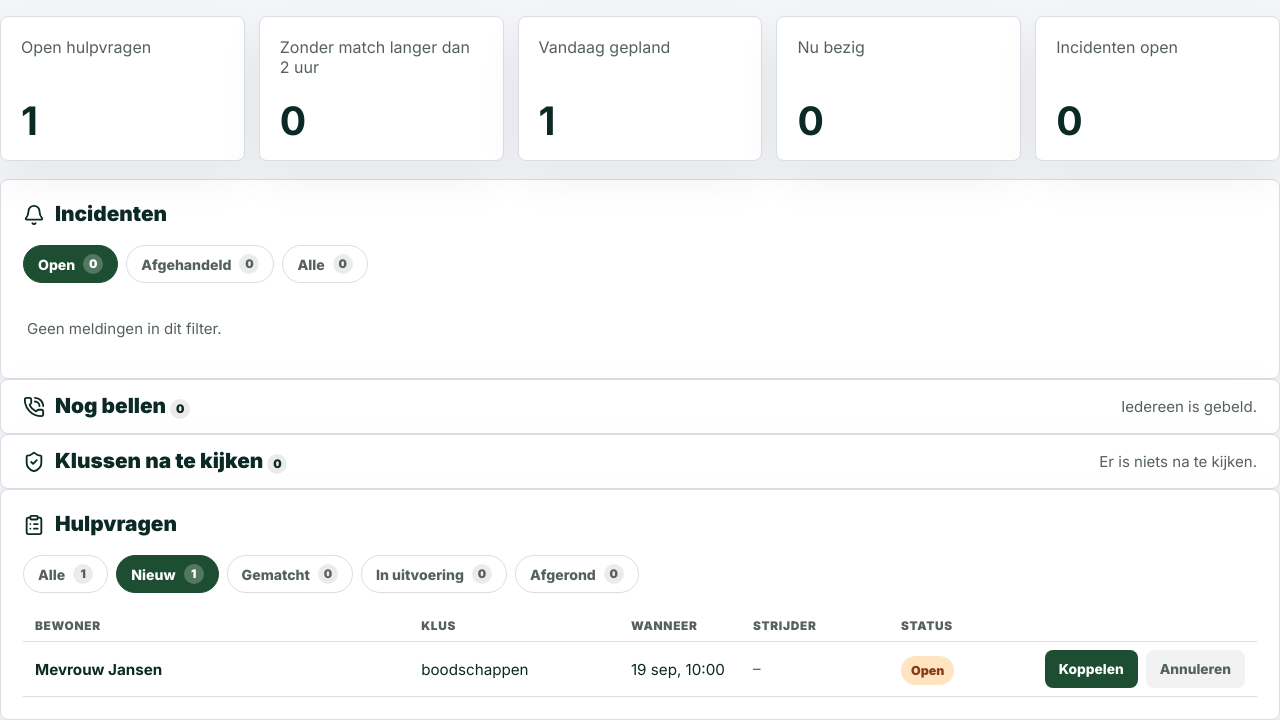
Test: D1 meldkamer › annuleert met een verplichte reden en toont een weigering van de server
This screenshot has width=1280, height=720.
(page scrolled)
Click the button "Annuleren". click: [1195, 669]
box: [1146,650,1245,688]
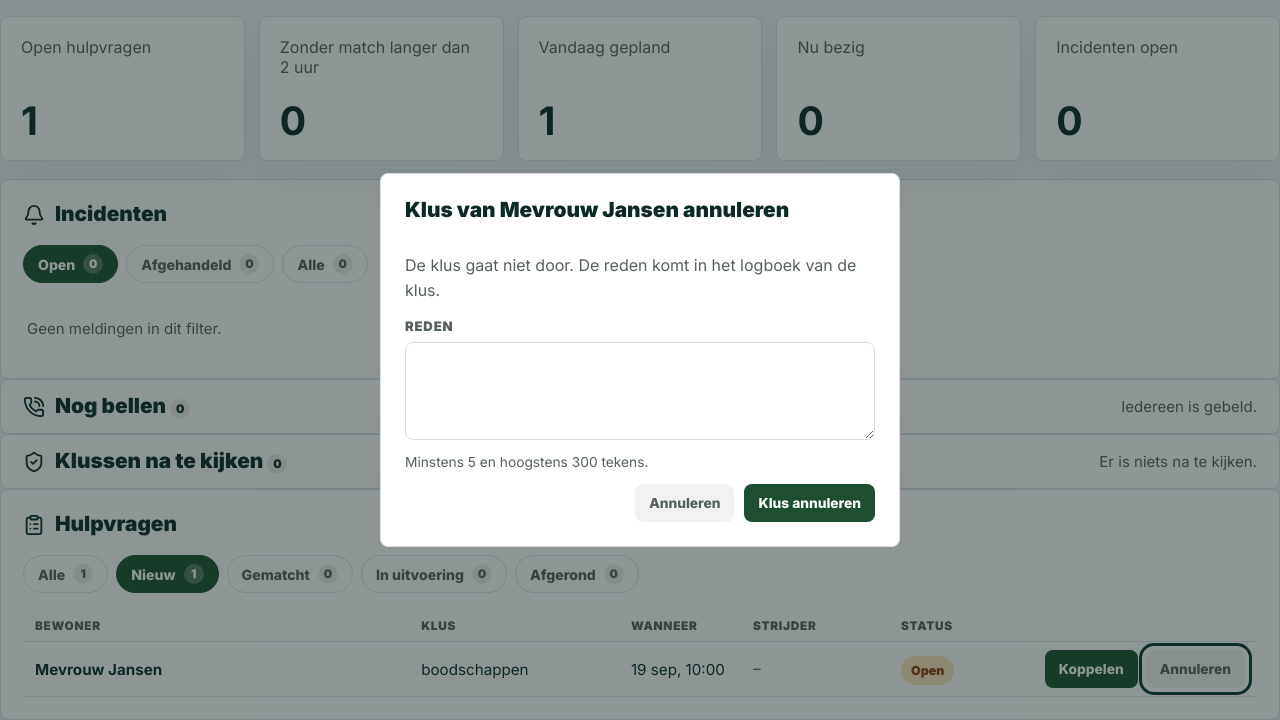
Check: the button "Klus annuleren" is disabled, box [744,484,875,522]
Type "Oudere belde af" into the text box labelled "Reden". click: [640, 391]
box: [405,342,875,440]
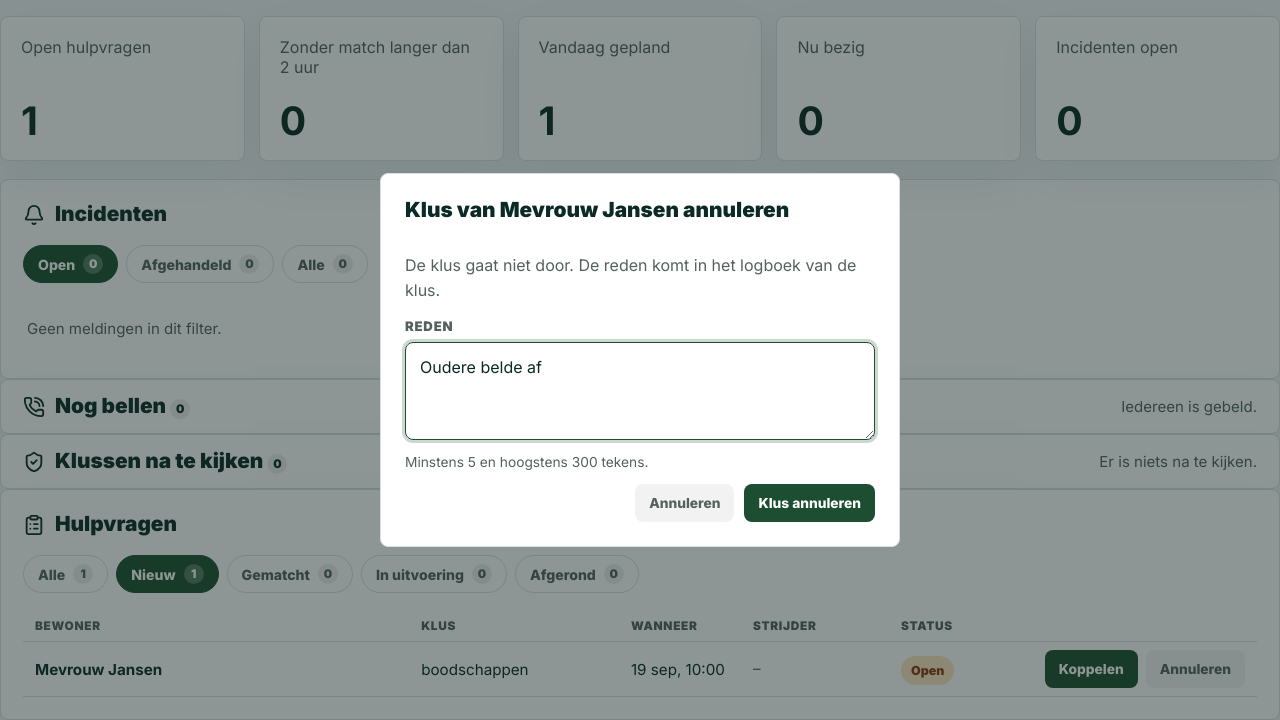
Click the button "Klus annuleren". click: [810, 503]
box: [744,484,875,522]
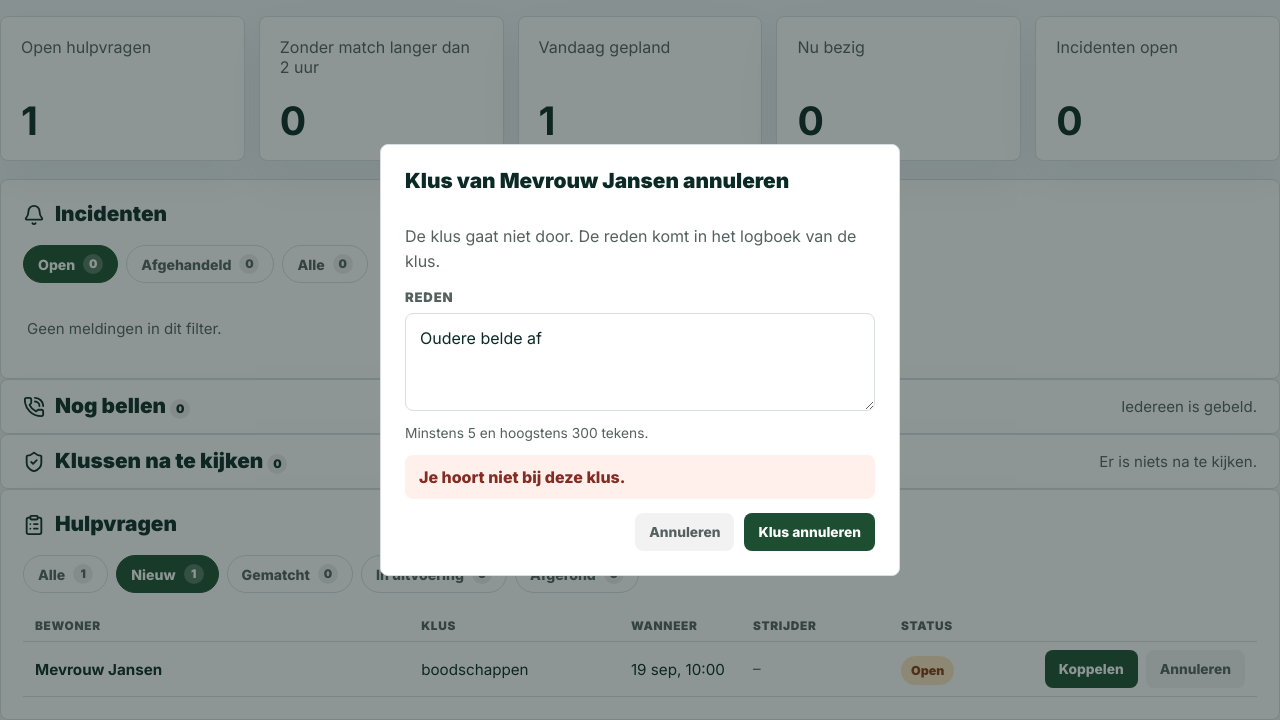
Check: the message reads "Je hoort niet bij deze klus.", box [419,467,625,487]
Click the button "Klus annuleren". click: [810, 532]
box: [744,513,875,551]
(page scrolled)
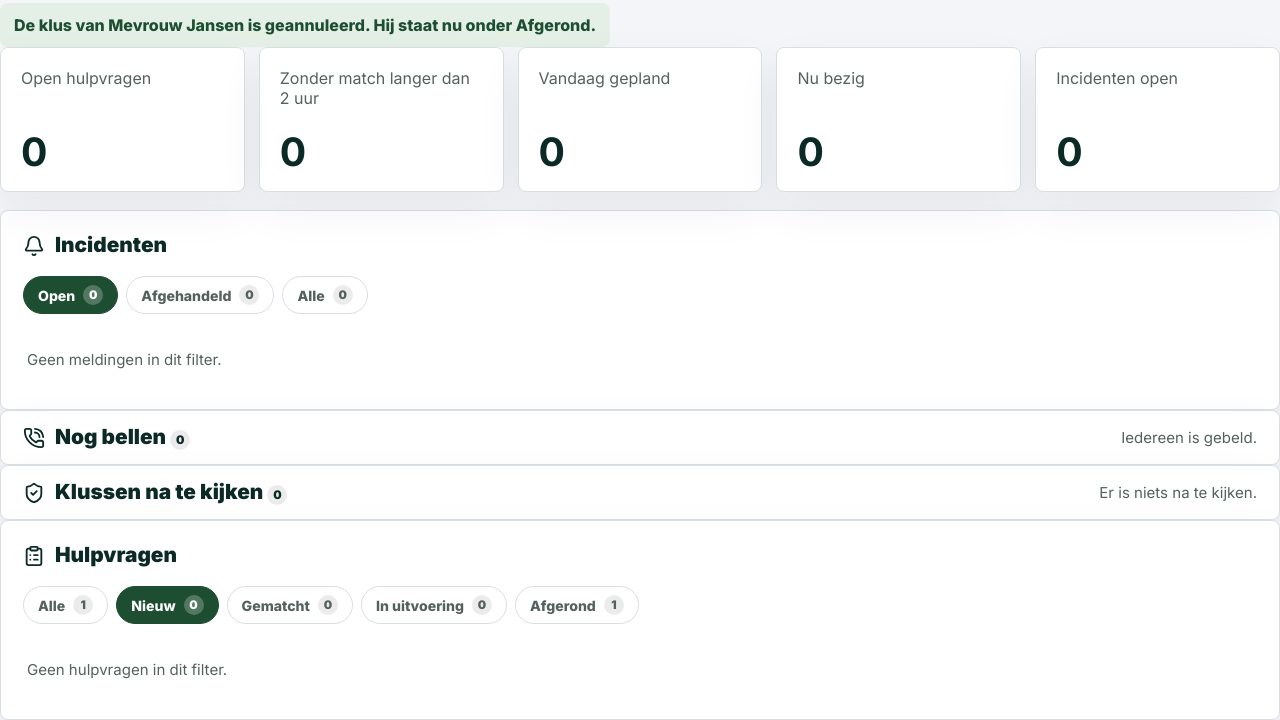
Check: the dialog is gone
